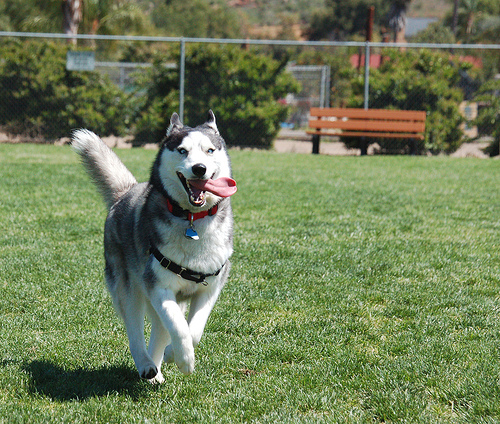dog: (70, 109, 238, 387)
